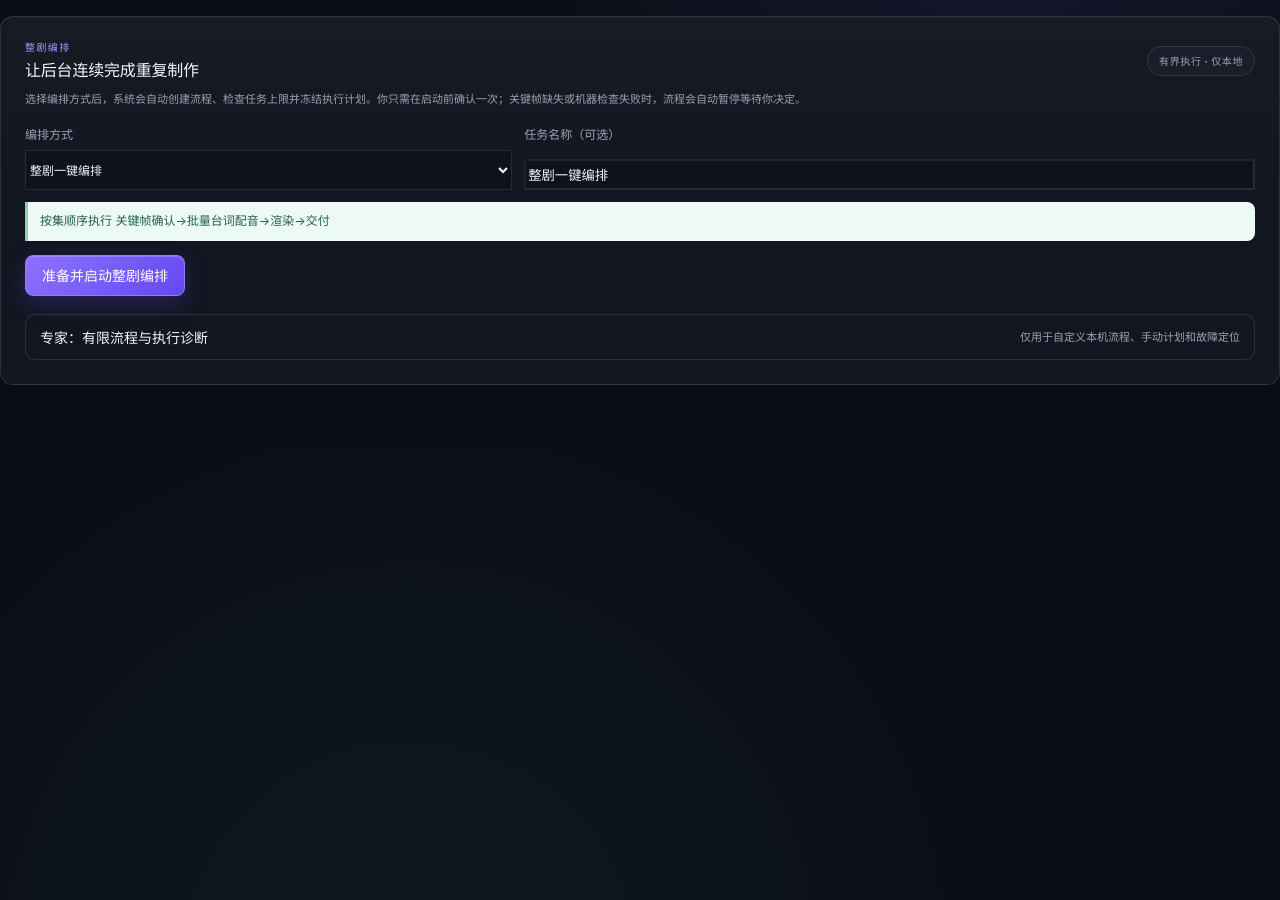
Test: AutomationWorkflowPanel › keeps bounded diagnostic workflows behind expert disclosure and generates their code
The image size is (1280, 900).
Expected: the text "按集顺序执行 关键帧确认→批量台词配音→渲染→交付" is shown, [25, 202, 1255, 241]
Step 1. Click the text "专家：有限流程与执行诊断" → point(124, 337), box [40, 327, 208, 348]
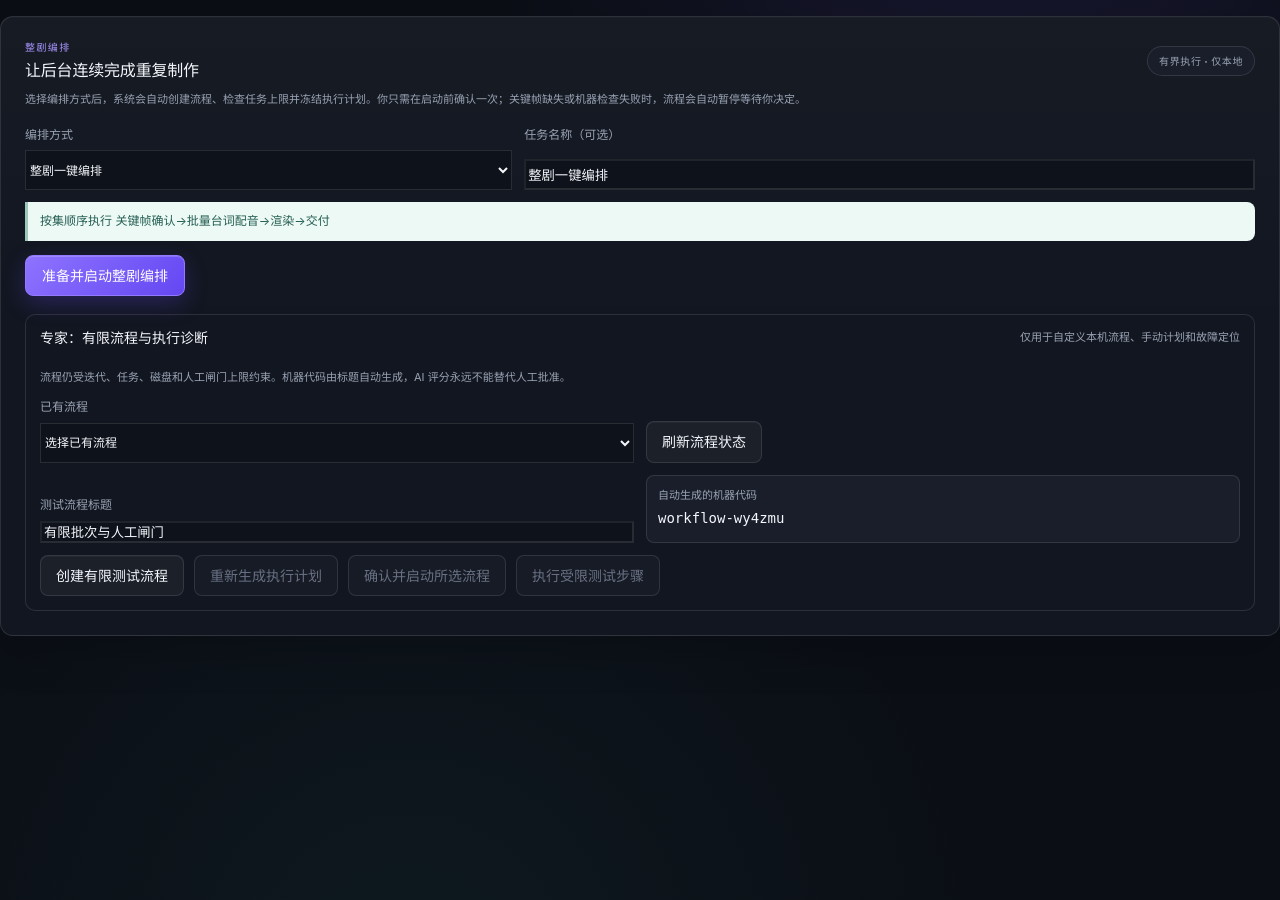
Now the text "自动生成的机器代码" is shown, box [658, 488, 757, 502]
Step 2. Click the button "创建有限测试流程" → point(112, 575), box [40, 555, 184, 596]
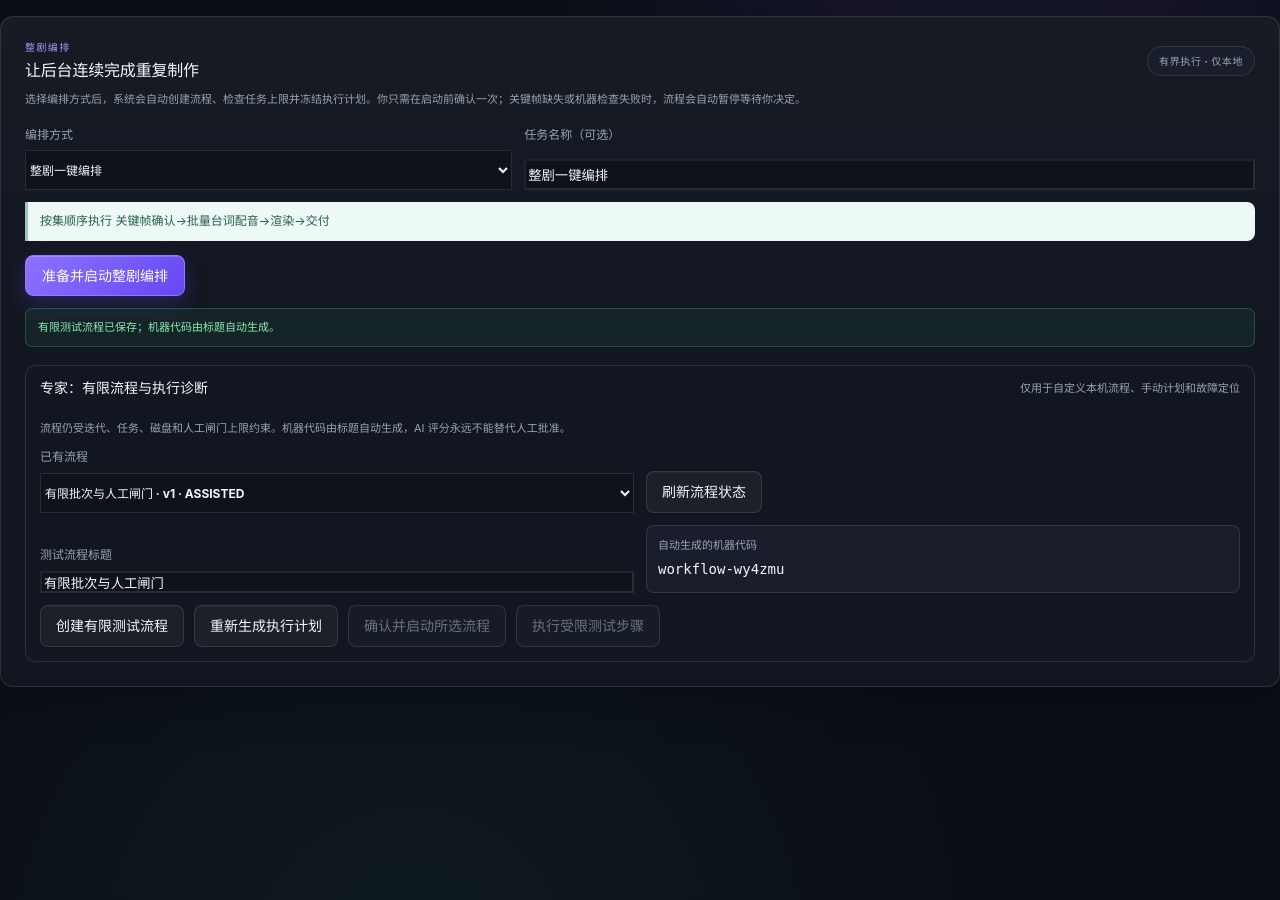
Now the text "有限测试流程已保存；机器代码由标题自动生成。" is shown, box [25, 308, 1255, 347]
